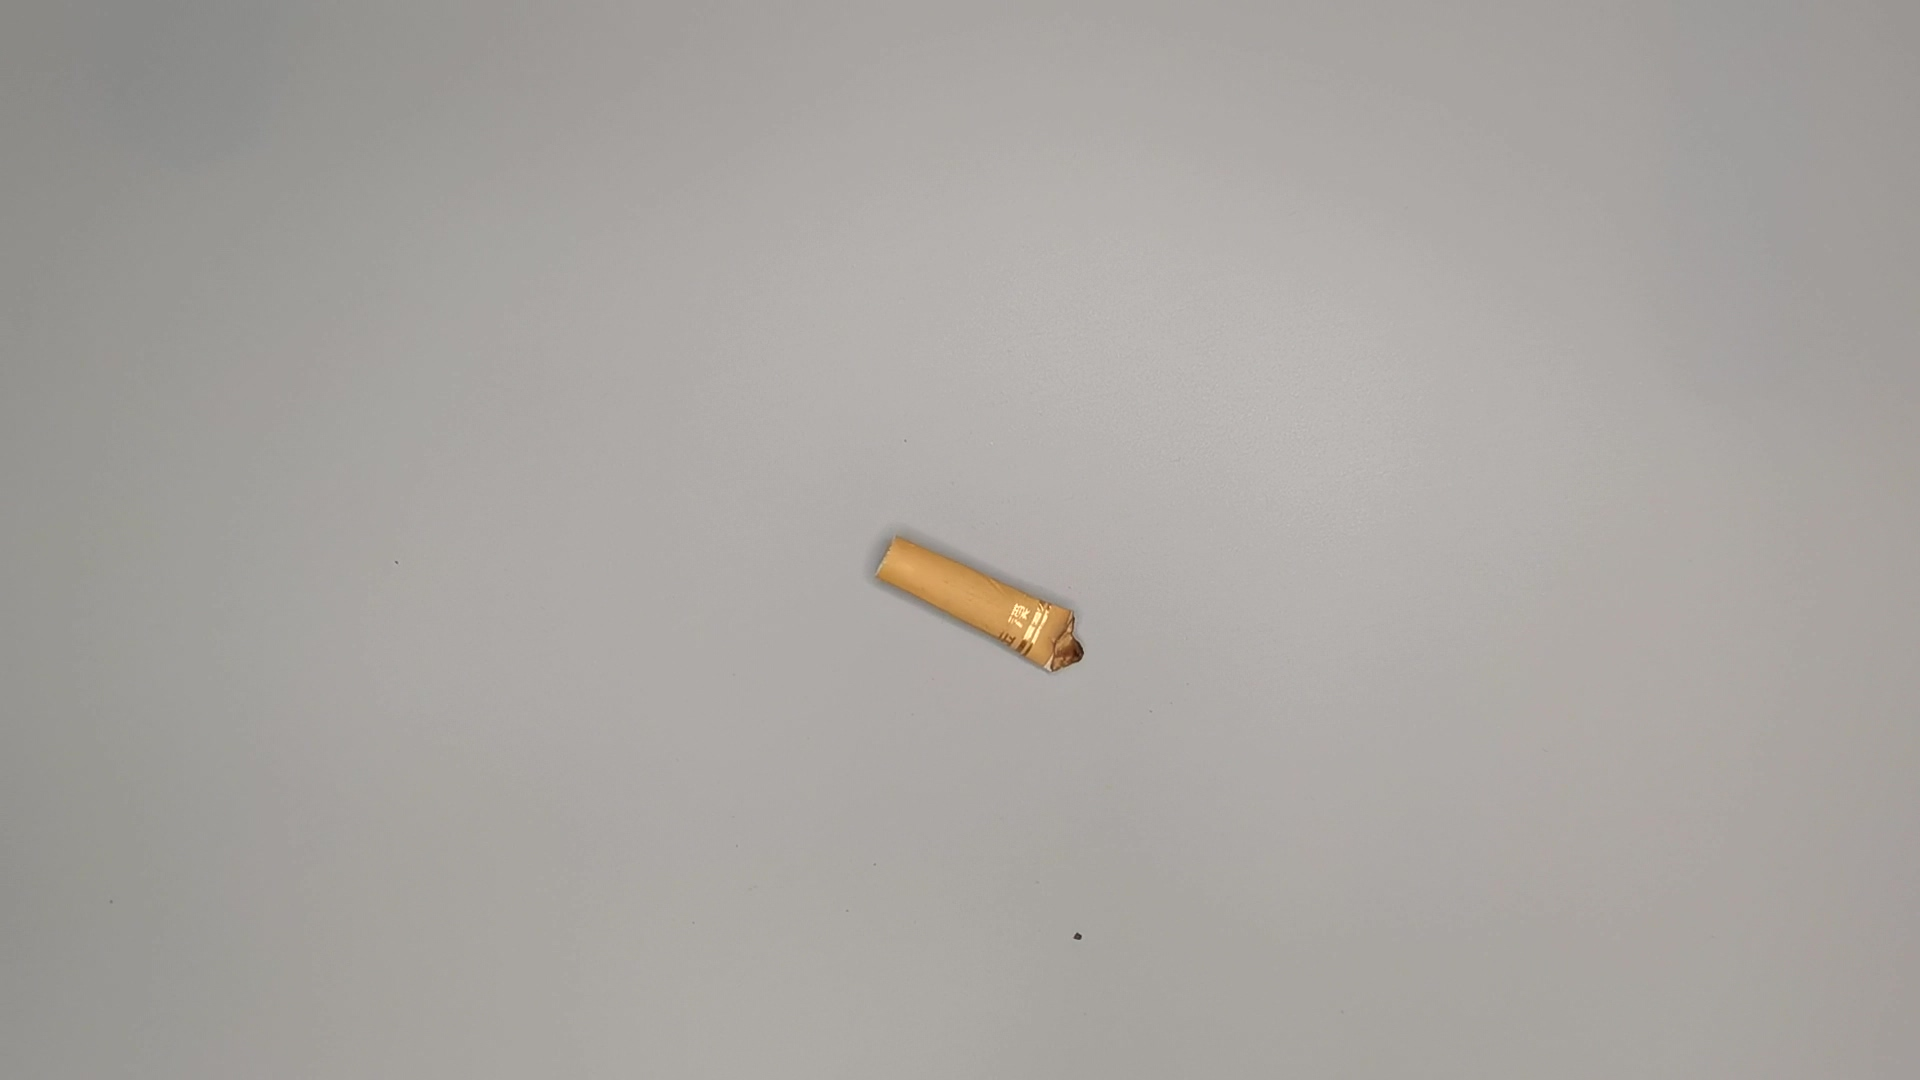cigarette: (864, 527, 1104, 688)
